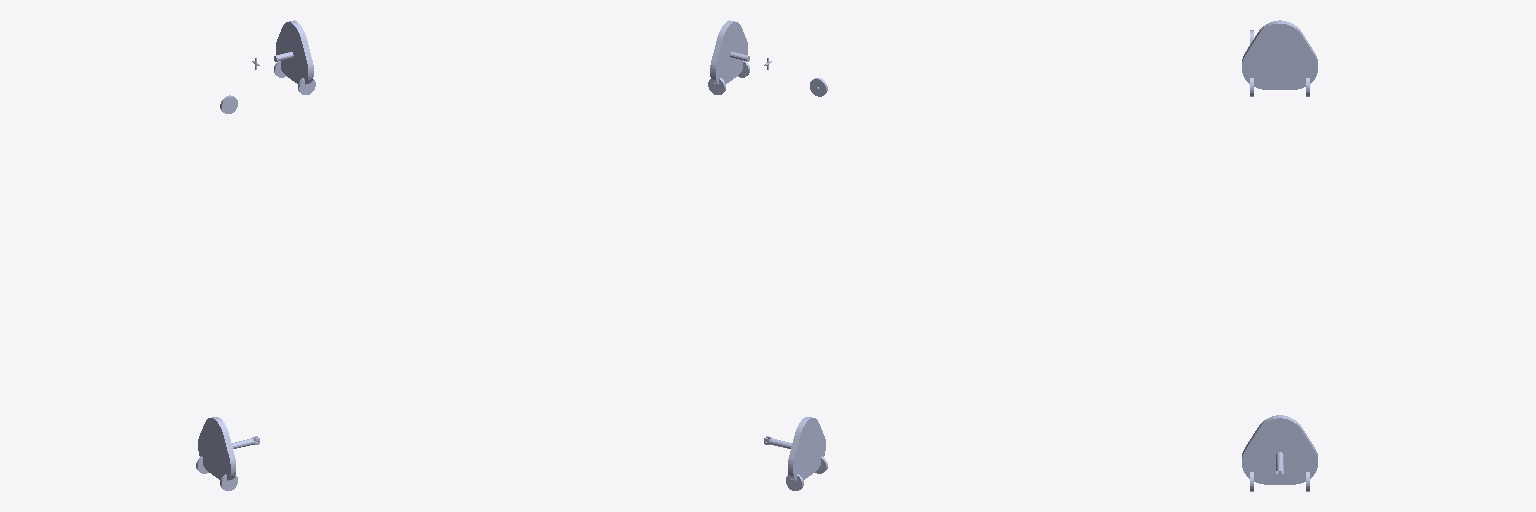
The robot description file, URDF, robot "3D_ver3":
<?xml version="1.0" encoding="utf-8"?>
<!-- This URDF was automatically created by SolidWorks to URDF Exporter! Originally created by Stephen Brawner ([email redacted]) 
     Commit Version: 1.6.0-1-g15f4949  Build Version: 1.6.7594.29634
     For more information, please see http://wiki.ros.org/sw_urdf_exporter -->
<robot
  name="3D_ver3">
  <link
    name="base">
    <inertial>
      <origin
        xyz="0.0774370333637908 -0.0148272437982761 0.0107177030271637"
        rpy="0 0 0" />
      <mass
        value="0.0794003271646727" />
      <inertia
        ixx="9.67652814264976E-05"
        ixy="-6.20691764667413E-12"
        ixz="2.46417753297851E-09"
        iyy="5.01282837289758E-05"
        iyz="-6.45218163565158E-11"
        izz="5.01019135277721E-05" />
    </inertial>
    <visual>
      <origin
        xyz="0 0 0"
        rpy="0 0 0" />
      <geometry>
        <mesh
          filename="package://3D_ver3/meshes/base.STL" />
      </geometry>
      <material
        name="">
        <color
          rgba="0.792156862745098 0.819607843137255 0.933333333333333 1" />
      </material>
    </visual>
    <collision>
      <origin
        xyz="0 0 0"
        rpy="0 0 0" />
      <geometry>
        <mesh
          filename="package://3D_ver3/meshes/base.STL" />
      </geometry>
    </collision>
  </link>
  <link
    name="wheel_backright">
    <inertial>
      <origin
        xyz="0 1.3299E-06 -0.0025"
        rpy="0 0 0" />
      <mass
        value="0.0035028" />
      <inertia
        ixx="2.0609E-07"
        ixy="9.9262E-24"
        ixz="-8.9791E-23"
        iyy="2.0608E-07"
        iyz="-5.0635E-24"
        izz="3.9757E-07" />
    </inertial>
    <visual>
      <origin
        xyz="0 0 0"
        rpy="0 0 0" />
      <geometry>
        <mesh
          filename="package://3D_ver3/meshes/wheel_backright.STL" />
      </geometry>
      <material
        name="">
        <color
          rgba="0.79216 0.81961 0.93333 1" />
      </material>
    </visual>
    <collision>
      <origin
        xyz="0 0 0"
        rpy="0 0 0" />
      <geometry>
        <mesh
          filename="package://3D_ver3/meshes/wheel_backright.STL" />
      </geometry>
    </collision>
  </link>
  <joint
    name="wheel1"
    type="continuous">
    <origin
      xyz="0.078031 0.020173 -0.029026"
      rpy="1.5708 0.20072 0" />
    <parent
      link="base" />
    <child
      link="wheel_backright" />
    <axis
      xyz="0 0 1" />
  </joint>
  <link
    name="wheel_backleft">
    <inertial>
      <origin
        xyz="1.3878E-17 1.3299E-06 0.0025"
        rpy="0 0 0" />
      <mass
        value="0.0035028" />
      <inertia
        ixx="2.0609E-07"
        ixy="-3.0159E-26"
        ixz="2.2058E-24"
        iyy="2.0608E-07"
        iyz="2.5768E-27"
        izz="3.9757E-07" />
    </inertial>
    <visual>
      <origin
        xyz="0 0 0"
        rpy="0 0 0" />
      <geometry>
        <mesh
          filename="package://3D_ver3/meshes/wheel_backleft.STL" />
      </geometry>
      <material
        name="">
        <color
          rgba="0.79216 0.81961 0.93333 1" />
      </material>
    </visual>
    <collision>
      <origin
        xyz="0 0 0"
        rpy="0 0 0" />
      <geometry>
        <mesh
          filename="package://3D_ver3/meshes/wheel_backleft.STL" />
      </geometry>
    </collision>
  </link>
  <joint
    name="wheel2"
    type="continuous">
    <origin
      xyz="0.078031 -0.049827 -0.029026"
      rpy="1.5708 0 0" />
    <parent
      link="base" />
    <child
      link="wheel_backleft" />
    <axis
      xyz="0 0 1" />
  </joint>
  <link
    name="slide_back">
    <inertial>
      <origin
        xyz="1.7347E-18 -0.05113 0"
        rpy="0 0 0" />
      <mass
        value="0.0027934" />
      <inertia
        ixx="3.4942E-07"
        ixy="-1.4017E-24"
        ixz="-1.1155E-24"
        iyy="3.9932E-08"
        iyz="-4.899E-25"
        izz="3.4715E-07" />
    </inertial>
    <visual>
      <origin
        xyz="0 0 0"
        rpy="0 0 0" />
      <geometry>
        <mesh
          filename="package://3D_ver3/meshes/slide_back.STL" />
      </geometry>
      <material
        name="">
        <color
          rgba="0.79216 0.81961 0.93333 1" />
      </material>
    </visual>
    <collision>
      <origin
        xyz="0 0 0"
        rpy="0 0 0" />
      <geometry>
        <mesh
          filename="package://3D_ver3/meshes/slide_back.STL" />
      </geometry>
    </collision>
  </link>
  <joint
    name="slide1"
    type="prismatic">
    <origin
      xyz="0.076031 -0.014827 0.01077"
      rpy="3.1416 0 1.5708" />
    <parent
      link="base" />
    <child
      link="slide_back" />
    <axis
      xyz="0 -1 0" />
    <limit
      lower="-0.05"
      upper="0.05"
      effort="0"
      velocity="0" />
  </joint>
  <link
    name="universal_pin">
    <inertial>
      <origin
        xyz="1.7347E-18 1.9284E-09 1.9284E-09"
        rpy="0 0 0" />
      <mass
        value="0.00027149" />
      <inertia
        ixx="5.9356E-09"
        ixy="4.4722E-15"
        ixz="-4.4722E-15"
        iyy="3.2007E-09"
        iyz="1.0097E-21"
        izz="3.2007E-09" />
    </inertial>
    <visual>
      <origin
        xyz="0 0 0"
        rpy="0 0 0" />
      <geometry>
        <mesh
          filename="package://3D_ver3/meshes/universal_pin.STL" />
      </geometry>
      <material
        name="">
        <color
          rgba="0.79216 0.81961 0.93333 1" />
      </material>
    </visual>
    <collision>
      <origin
        xyz="0 0 0"
        rpy="0 0 0" />
      <geometry>
        <mesh
          filename="package://3D_ver3/meshes/universal_pin.STL" />
      </geometry>
    </collision>
  </link>
  <joint
    name="yaw"
    type="revolute">
    <origin
      xyz="0 -0.068 0"
      rpy="-1.5708 0 1.5708" />
    <parent
      link="slide_back" />
    <child
      link="universal_pin" />
    <axis
      xyz="0 -1 0" />
    <limit
      lower="-1.5708"
      upper="1.5708"
      effort="0"
      velocity="0" />
  </joint>
  <link
    name="slide_front">
    <inertial>
      <origin
        xyz="0 -0.05113 -1.7347E-18"
        rpy="0 0 0" />
      <mass
        value="0.0027934" />
      <inertia
        ixx="3.4715E-07"
        ixy="7.833E-24"
        ixz="-3.3029E-25"
        iyy="3.9932E-08"
        iyz="-1.2706E-23"
        izz="3.4942E-07" />
    </inertial>
    <visual>
      <origin
        xyz="0 0 0"
        rpy="0 0 0" />
      <geometry>
        <mesh
          filename="package://3D_ver3/meshes/slide_front.STL" />
      </geometry>
      <material
        name="">
        <color
          rgba="0.79216 0.81961 0.93333 1" />
      </material>
    </visual>
    <collision>
      <origin
        xyz="0 0 0"
        rpy="0 0 0" />
      <geometry>
        <mesh
          filename="package://3D_ver3/meshes/slide_front.STL" />
      </geometry>
    </collision>
  </link>
  <joint
    name="pitch"
    type="revolute">
    <origin
      xyz="-0.068 -0.65 0"
      rpy="1.5708 -1.5708 0" />
    <parent
      link="universal_pin" />
    <child
      link="slide_front" />
    <axis
      xyz="-1 0 0" />
    <limit
      lower="-1.5708"
      upper="1.5708"
      effort="0"
      velocity="0" />
  </joint>
  <link
    name="head">
    <inertial>
      <origin
        xyz="-2.3602E-08 -0.0014065 -5.2502E-05"
        rpy="0 0 0" />
      <mass
        value="0.0794" />
      <inertia
        ixx="5.0128E-05"
        ixy="5.0032E-12"
        ixz="-6.4522E-11"
        iyy="9.6765E-05"
        iyz="-2.4642E-09"
        izz="5.0102E-05" />
    </inertial>
    <visual>
      <origin
        xyz="0 0 0"
        rpy="0 0 0" />
      <geometry>
        <mesh
          filename="package://3D_ver3/meshes/head.STL" />
      </geometry>
      <material
        name="">
        <color
          rgba="0.79216 0.81961 0.93333 1" />
      </material>
    </visual>
    <collision>
      <origin
        xyz="0 0 0"
        rpy="0 0 0" />
      <geometry>
        <mesh
          filename="package://3D_ver3/meshes/head.STL" />
      </geometry>
    </collision>
  </link>
  <joint
    name="slide2"
    type="prismatic">
    <origin
      xyz="0 0 0"
      rpy="3.1416 0 0" />
    <parent
      link="slide_front" />
    <child
      link="head" />
    <axis
      xyz="0 1 0" />
    <limit
      lower="-0.05"
      upper="0.05"
      effort="0"
      velocity="0" />
  </joint>
  <link
    name="wheel_frontright">
    <inertial>
      <origin
        xyz="0 1.3299E-06 -0.0025"
        rpy="0 0 0" />
      <mass
        value="0.0035028" />
      <inertia
        ixx="2.0609E-07"
        ixy="-4.1854E-25"
        ixz="-3.4801E-26"
        iyy="2.0608E-07"
        iyz="3.5037E-27"
        izz="3.9757E-07" />
    </inertial>
    <visual>
      <origin
        xyz="0 0 0"
        rpy="0 0 0" />
      <geometry>
        <mesh
          filename="package://3D_ver3/meshes/wheel_frontright.STL" />
      </geometry>
      <material
        name="">
        <color
          rgba="0.79216 0.81961 0.93333 1" />
      </material>
    </visual>
    <collision>
      <origin
        xyz="0 0 0"
        rpy="0 0 0" />
      <geometry>
        <mesh
          filename="package://3D_ver3/meshes/wheel_frontright.STL" />
      </geometry>
    </collision>
  </link>
  <joint
    name="wheel3"
    type="continuous">
    <origin
      xyz="-0.035 -0.002 -0.039796"
      rpy="1.5708 0 1.5708" />
    <parent
      link="head" />
    <child
      link="wheel_frontright" />
    <axis
      xyz="0 0 1" />
  </joint>
  <link
    name="wheel_frontleft">
    <inertial>
      <origin
        xyz="0 1.3299E-06 0.0025"
        rpy="0 0 0" />
      <mass
        value="0.0035028" />
      <inertia
        ixx="2.0609E-07"
        ixy="-4.1841E-25"
        ixz="2.1541E-24"
        iyy="2.0608E-07"
        iyz="7.9016E-27"
        izz="3.9757E-07" />
    </inertial>
    <visual>
      <origin
        xyz="0 0 0"
        rpy="0 0 0" />
      <geometry>
        <mesh
          filename="package://3D_ver3/meshes/wheel_frontleft.STL" />
      </geometry>
      <material
        name="">
        <color
          rgba="0.79216 0.81961 0.93333 1" />
      </material>
    </visual>
    <collision>
      <origin
        xyz="0 0 0"
        rpy="0 0 0" />
      <geometry>
        <mesh
          filename="package://3D_ver3/meshes/wheel_frontleft.STL" />
      </geometry>
    </collision>
  </link>
  <joint
    name="wheel4"
    type="continuous">
    <origin
      xyz="0.035 -0.002 -0.039796"
      rpy="1.5708 0 1.5708" />
    <parent
      link="head" />
    <child
      link="wheel_frontleft" />
    <axis
      xyz="0 0 1" />
  </joint>
</robot>

--- Facts derived from the render (not from the file) ---
3 views of the same robot in one strip: view 1: azimuth 30°, elevation 25°; view 2: azimuth 150°, elevation 25°; view 3: azimuth 270°, elevation 25° (orthographic).
Model 3D_ver3 with 9 links and 8 joints (2 revolute, 4 continuous, 2 prismatic), rooted at base, posed every joint at zero.
Visible links, largest first — view 1: head, base; view 2: head, base; view 3: base, head.
Boxes of the visible links, x1,y1,x2,y2 form: head: (198,417,237,482); base: (274,20,313,86); head: (786,417,825,482); base: (710,20,749,86); base: (1242,20,1317,89); head: (1242,415,1317,484).
Size in the robot's own frame: 0.17 by 0.1025 by 0.7592 metres.
Meshes: 9 distinct files referenced, 7 mesh visuals loaded (7 binary STL); not drawn: 2 (reference not matched to a file when rendering).
